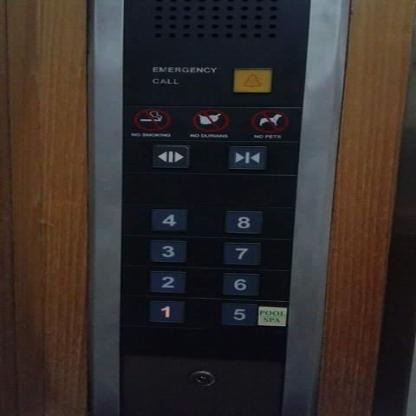1: (146, 300, 184, 324)
2: (146, 270, 186, 294)
3: (148, 239, 186, 263)
4: (148, 207, 186, 232)
5: (220, 302, 258, 326)
6: (219, 271, 260, 296)
7: (219, 241, 262, 265)
8: (222, 210, 262, 235)
alarm: (231, 67, 273, 94)
close: (226, 145, 267, 170)
keyhole: (186, 370, 214, 386)
open: (150, 143, 191, 168)
